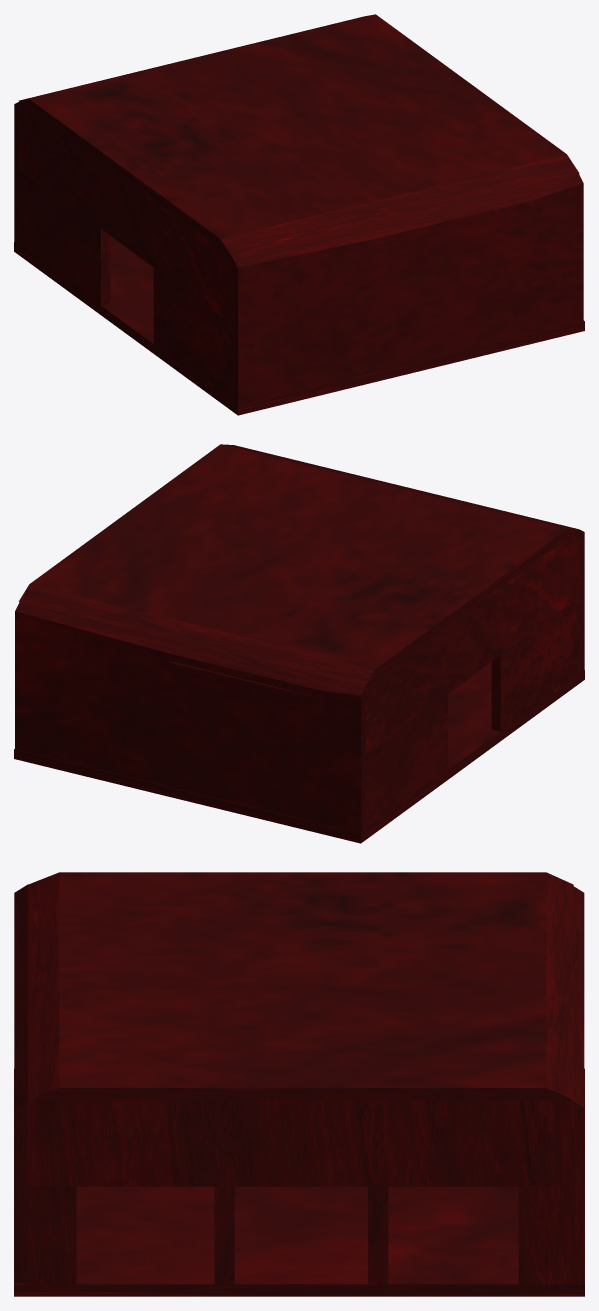
Rendered from arena_room.glb.
The picture shows the model from 3 angles, top to bottom: view 1: azimuth 30°, elevation 25°; view 2: azimuth 150°, elevation 25°; view 3: azimuth 270°, elevation 25°; orthographic projection. The views are drawn at different scales.
Parts seen in each view (by area): view 1: Ceiling, Rightwall, Entry, Floor, LeftWall; view 2: Ceiling, LeftWall, Entry, Floor, Rightwall; view 3: Ceiling, Exit, Floor, Rightwall, LeftWall.
Boxes of the visible parts, x1=… form: Ceiling: x1=18, y1=14, x2=578, y2=257; Rightwall: x1=232, y1=173, x2=583, y2=405; Entry: x1=19, y1=101, x2=232, y2=401; Floor: x1=14, y1=236, x2=584, y2=415; LeftWall: x1=14, y1=101, x2=19, y2=245; Ceiling: x1=19, y1=444, x2=578, y2=686; LeftWall: x1=15, y1=602, x2=366, y2=833; Entry: x1=366, y1=530, x2=579, y2=829; Floor: x1=14, y1=662, x2=584, y2=843; Rightwall: x1=235, y1=445, x2=584, y2=673; Ceiling: x1=28, y1=872, x2=573, y2=1100; Exit: x1=28, y1=1100, x2=571, y2=1284; Floor: x1=14, y1=1068, x2=584, y2=1296; Rightwall: x1=14, y1=884, x2=27, y2=1283; LeftWall: x1=571, y1=886, x2=584, y2=1283.
Size of the model in its own units: 75.1 by 33.86 by 84.
Materials: 1 (1 with a texture image).
